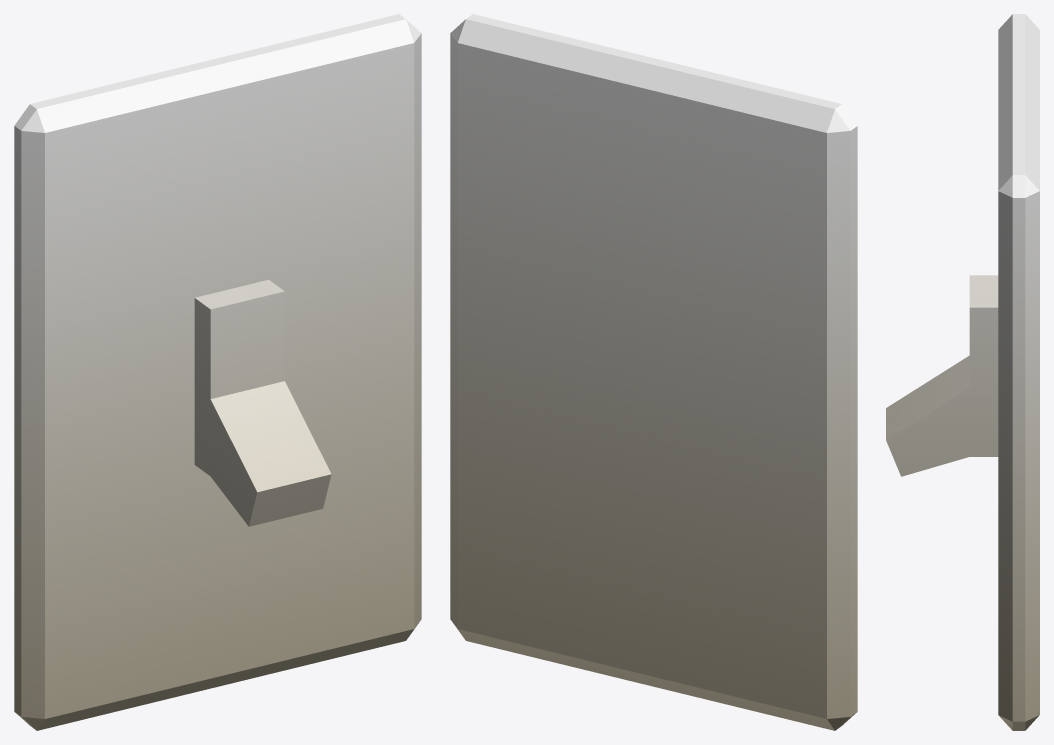
File: lightswitchon (1).fbx
3 renders of one model, left to right at view 1: azimuth 30°, elevation 25°; view 2: azimuth 150°, elevation 25°; view 3: azimuth 270°, elevation 25°, orthographic. The views are drawn at different scales.
Parts seen in each view (by area): view 1: lightswitchon; view 2: lightswitchon; view 3: lightswitchon.
Part boxes in pixels (x1,y1,x2,y2): lightswitchon: (14,14,421,730); lightswitchon: (450,14,857,730); lightswitchon: (886,14,1039,730).
Bounding box in the file's own units: 0.4213 × 0.6252 × 0.1568.
